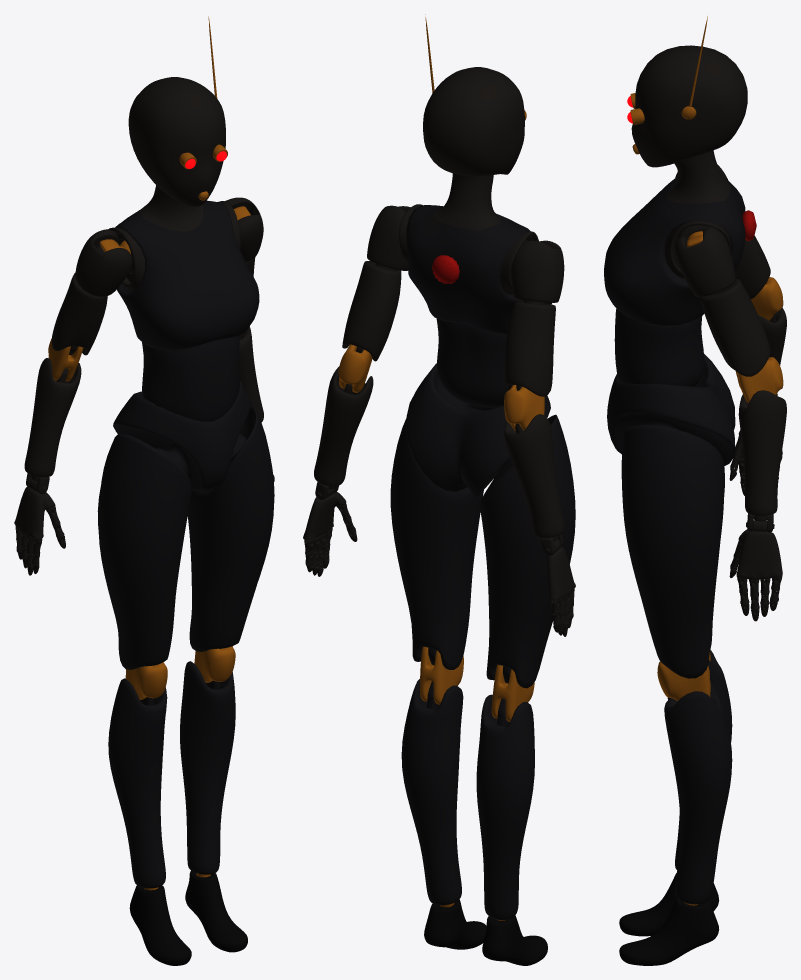
The model's file is static_robot.glb.
The picture shows the model from 3 angles, left to right: view 1: azimuth 30°, elevation 25°; view 2: azimuth 150°, elevation 25°; view 3: azimuth 270°, elevation 25°; orthographic projection. The views are drawn at different scales.
Parts seen in each view (by area): view 1: static_robot_body; view 2: static_robot_body; view 3: static_robot_body.
Part boxes in pixels (bbox=[...]): static_robot_body: bbox=[14, 16, 274, 965]; static_robot_body: bbox=[303, 14, 575, 965]; static_robot_body: bbox=[604, 16, 786, 965].
Size of the model in its own units: 0.4834 by 1.71 by 0.2984.
